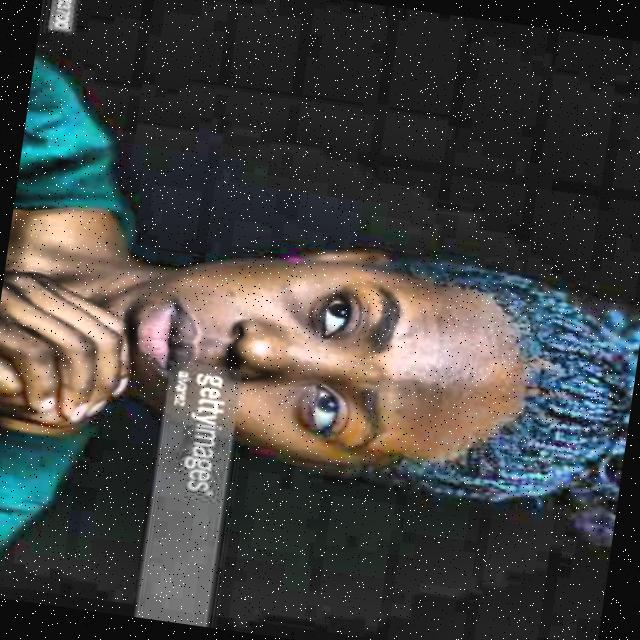sad: (81, 200, 632, 519)
